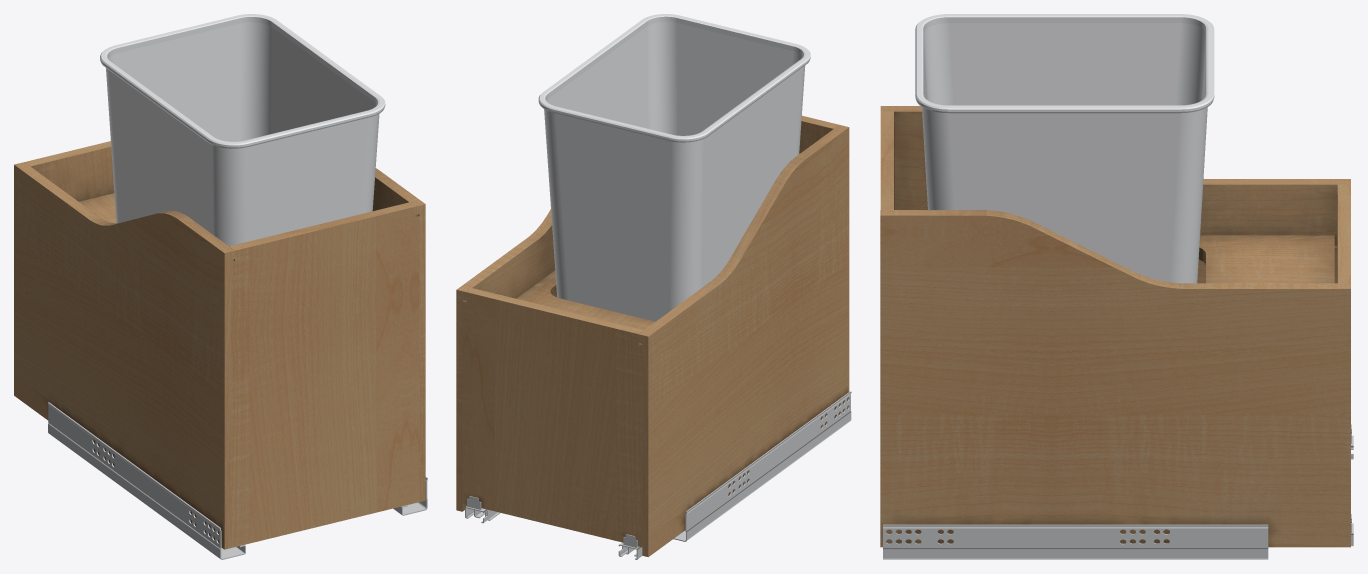
The model's file is inserts-single-trash-pullout.glb.
The picture shows the model from 3 angles, left to right: view 1: azimuth 30°, elevation 25°; view 2: azimuth 150°, elevation 25°; view 3: azimuth 270°, elevation 25°; orthographic projection. The views are drawn at different scales.
Visible parts, largest first — view 1: insert; view 2: insert; view 3: insert.
Part boxes in pixels (box(x1,y1,x2,y2)): insert: box(14, 14, 427, 559); insert: box(456, 14, 851, 559); insert: box(880, 14, 1353, 559).
Size of the model in its own units: 0.317 by 0.578 by 0.5588.
6 materials, 1 textured.
